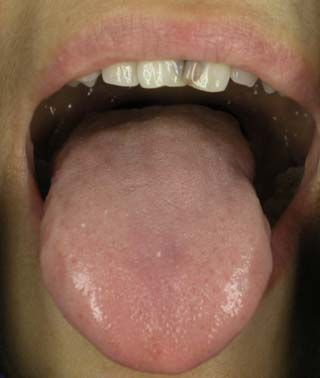chihenshe: (33, 195, 70, 305)
